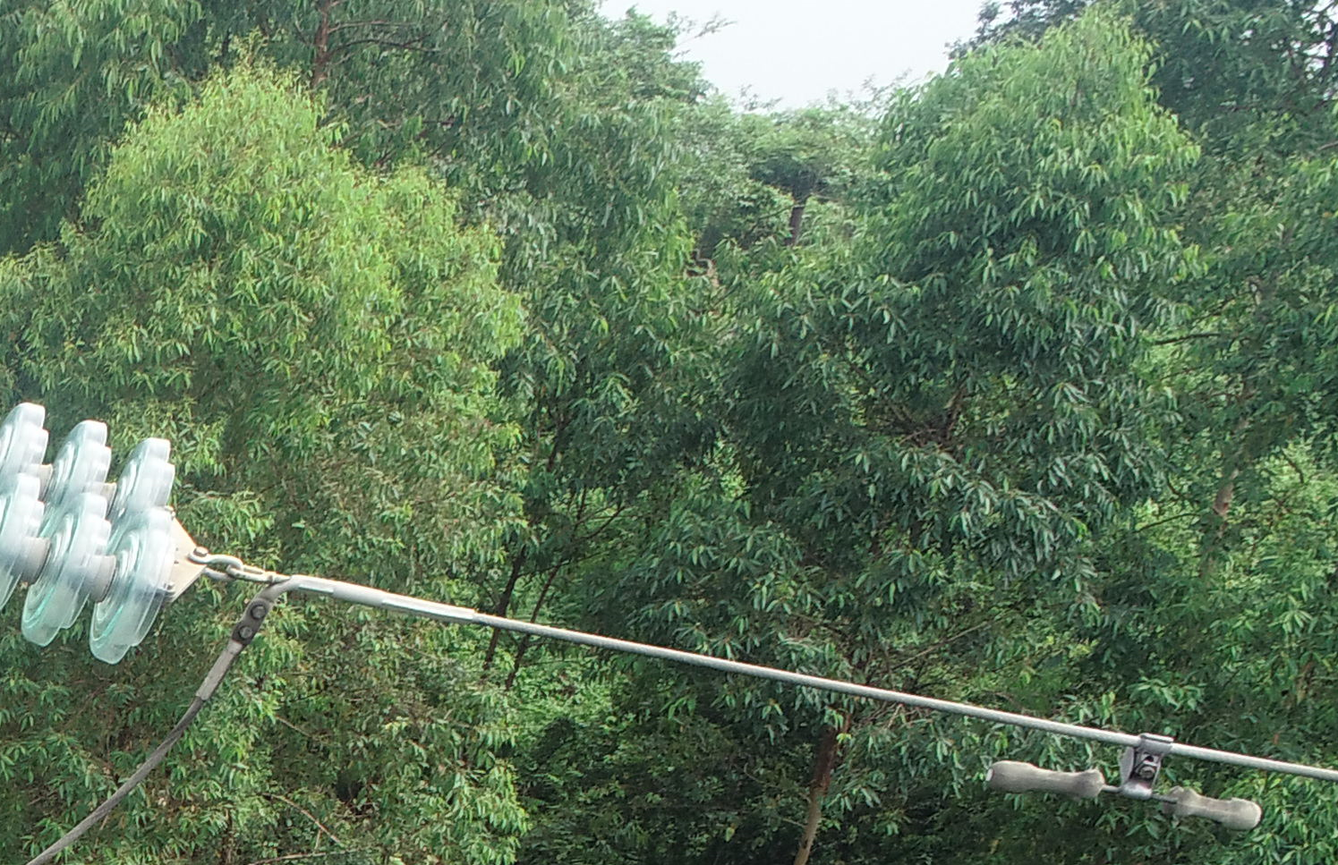damper: (979, 727, 1264, 834)
